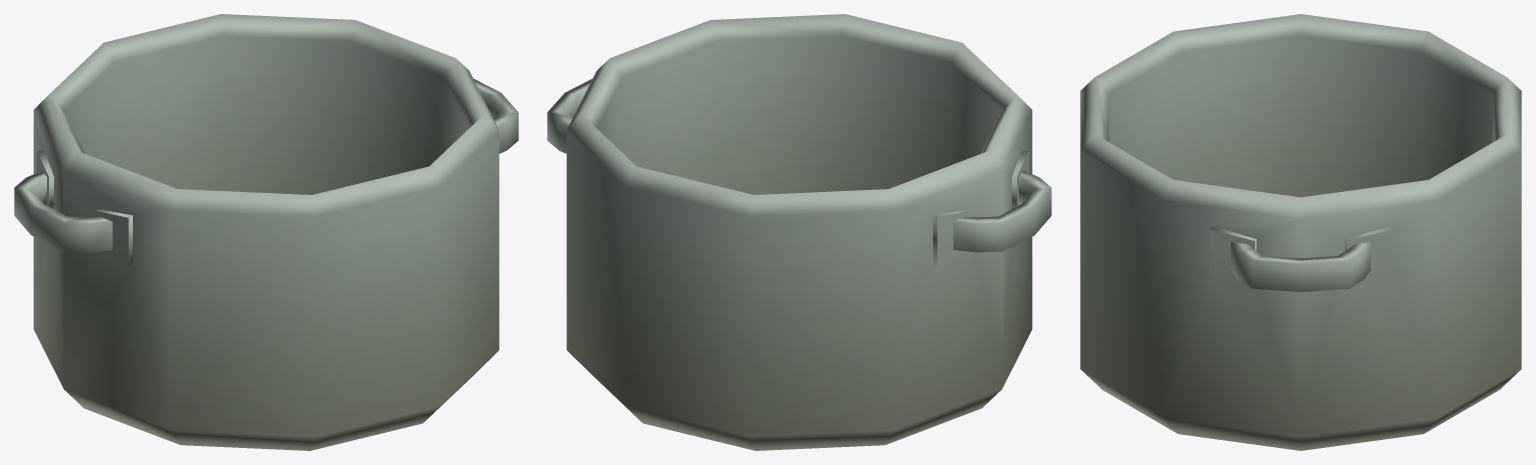
File: SM_Pan_Small_01.fbx
The picture shows the model from 3 angles, left to right: view 1: azimuth 30°, elevation 25°; view 2: azimuth 150°, elevation 25°; view 3: azimuth 270°, elevation 25°; orthographic projection.
Parts seen in each view (by area): view 1: SM_Pan_Small_01; view 2: SM_Pan_Small_01; view 3: SM_Pan_Small_01.
Part boxes in pixels (box(x1,y1,x2,y2)): SM_Pan_Small_01: box(14, 14, 518, 450); SM_Pan_Small_01: box(547, 14, 1051, 450); SM_Pan_Small_01: box(1080, 14, 1521, 450).
Size of the model in its own units: 30.8 by 16.24 by 25.27.
